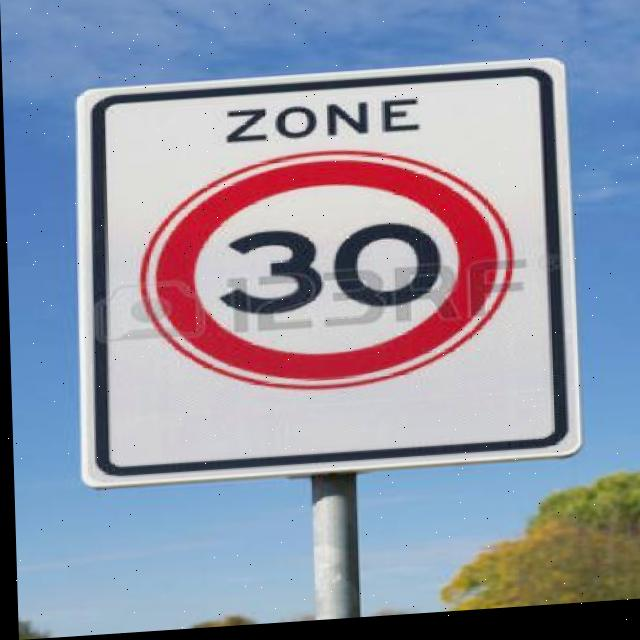Speed limit 30: (132, 147, 520, 423)
